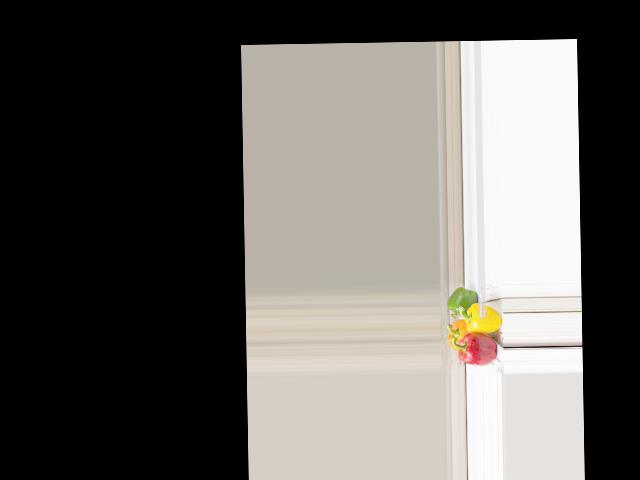bell_pepper: (446, 318, 469, 351)
